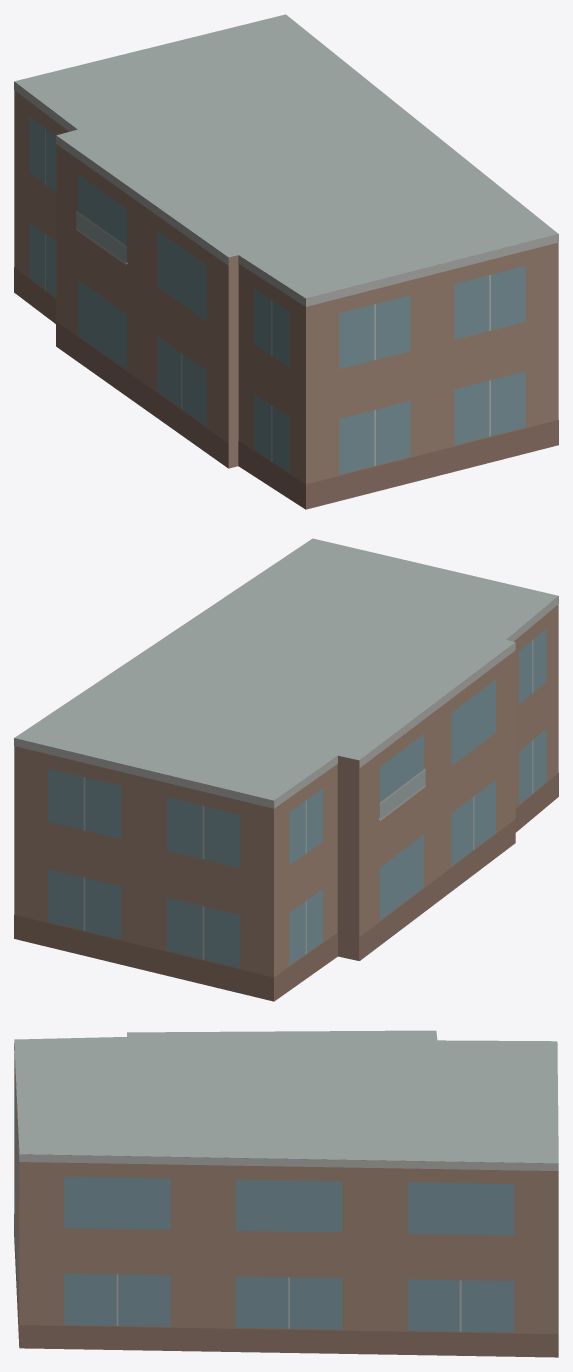
The model's file is survey-upis-32595665.glb.
3 views of the same model, one above another, from view 1: azimuth 30°, elevation 25°; view 2: azimuth 150°, elevation 25°; view 3: azimuth 270°, elevation 25° (orthographic). The views are drawn at different scales.
Parts seen in each view (by area): view 1: survey-upis-32595665.tmp; view 2: survey-upis-32595665.tmp; view 3: survey-upis-32595665.tmp.
Part boxes in pixels (x1,y1,x2,y2): survey-upis-32595665.tmp: (14,14,558,509); survey-upis-32595665.tmp: (14,538,558,1001); survey-upis-32595665.tmp: (14,1030,558,1357).
Size of the model in its own units: 8.99 by 6.1 by 15.53.
